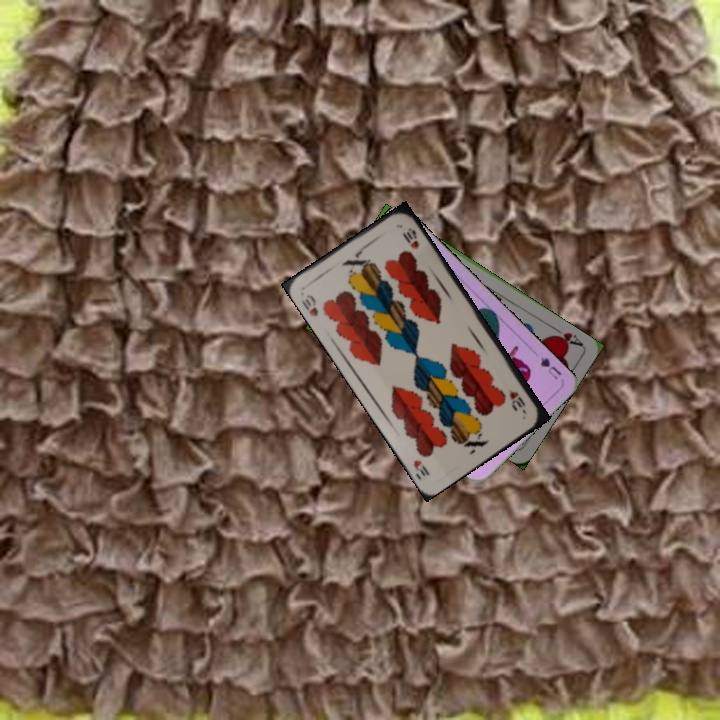GU: (536, 353, 564, 382)
H10: (298, 290, 321, 319), (504, 385, 528, 410)
HA: (548, 322, 585, 349)
